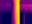Hotspot: (14, 0, 20, 23)
